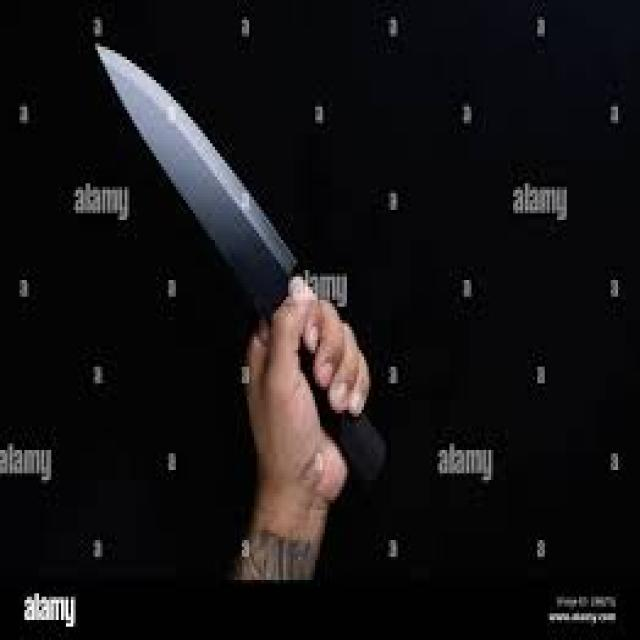faca: (92, 36, 400, 506)
